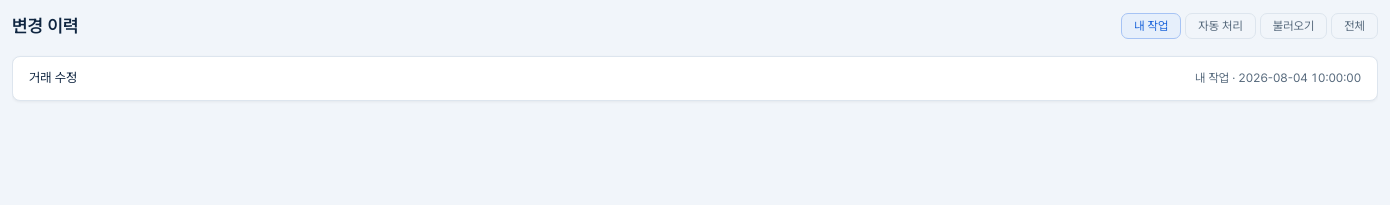
C. 변경 내용 펼치기 › C-4. 다시 누르면 접힌다
The width and height of the screenshot is (1390, 205).
Click the button "거래 수정 내 작업 · 2026-08-04 10:00:00" at [53, 78], box left=29, top=69, right=1361, bottom=88
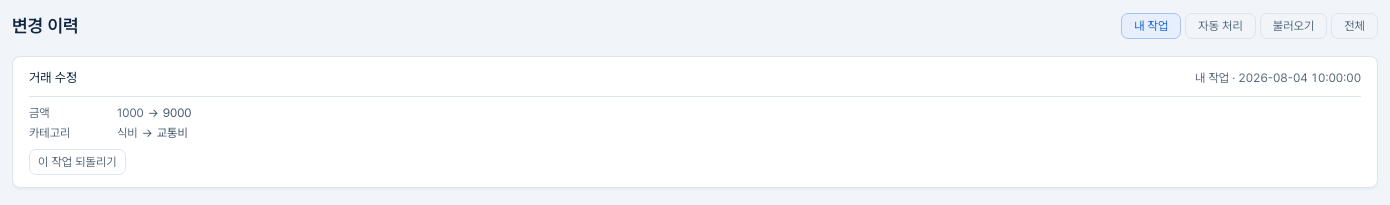
Now the text "금액" is shown, box left=29, top=106, right=50, bottom=120
Click the button "거래 수정 내 작업 · 2026-08-04 10:00:00" at [53, 78], box left=29, top=69, right=1361, bottom=88
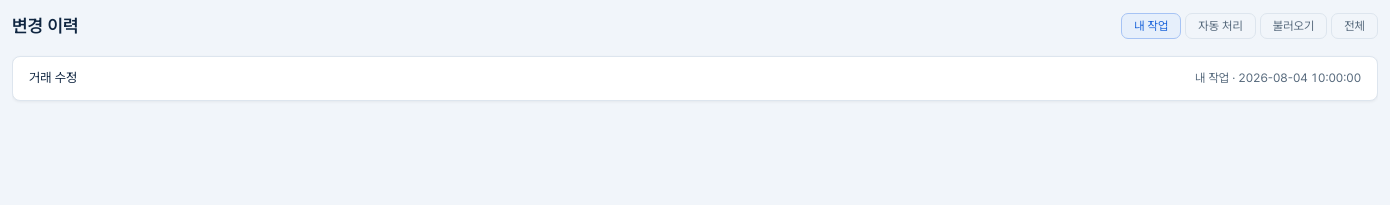
Now the text "금액" is gone
